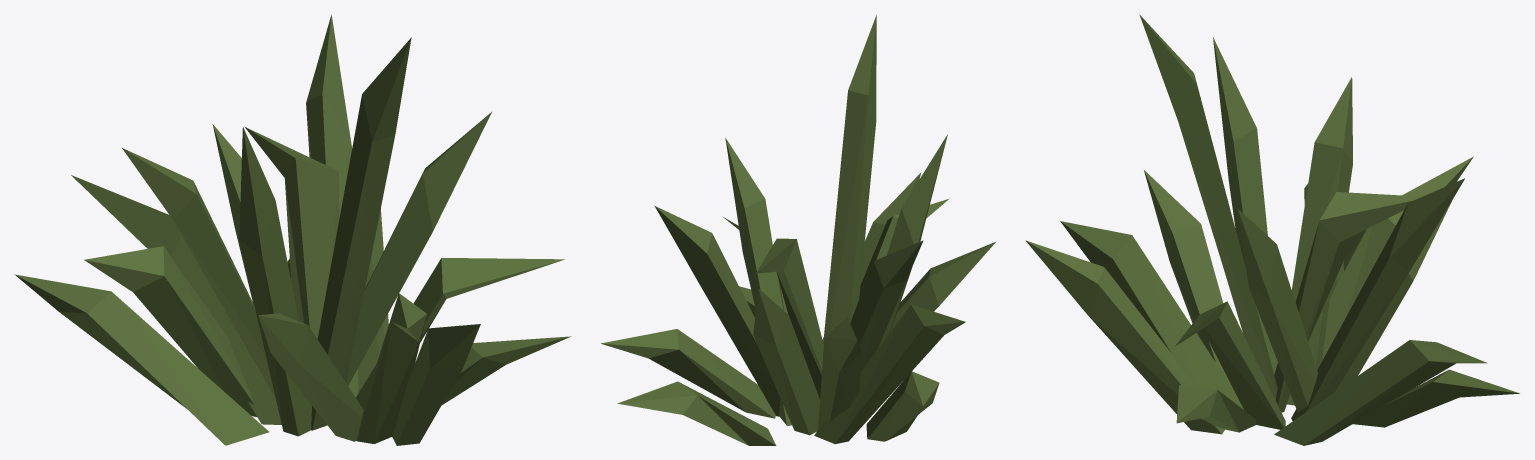
Rendered from SM_Env_Grass_01.glb.
3 renders of one model, left to right at view 1: azimuth 30°, elevation 25°; view 2: azimuth 150°, elevation 25°; view 3: azimuth 270°, elevation 25°, orthographic. The views are drawn at different scales.
Visible parts, largest first — view 1: SM_Env_Grass_01_part00; view 2: SM_Env_Grass_01_part00; view 3: SM_Env_Grass_01_part00.
Part boxes in pixels (x1,y1,x2,y2): SM_Env_Grass_01_part00: (14,14,571,445); SM_Env_Grass_01_part00: (601,15,996,445); SM_Env_Grass_01_part00: (1025,14,1519,445).
Size of the model in its own units: 1.56 by 1.59 by 1.79.
Materials: 1 (1 with a texture image).
